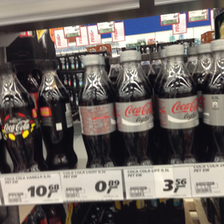soda: (157, 44, 201, 164), (1, 62, 46, 171), (115, 50, 157, 165), (79, 54, 116, 167), (38, 61, 77, 168)
